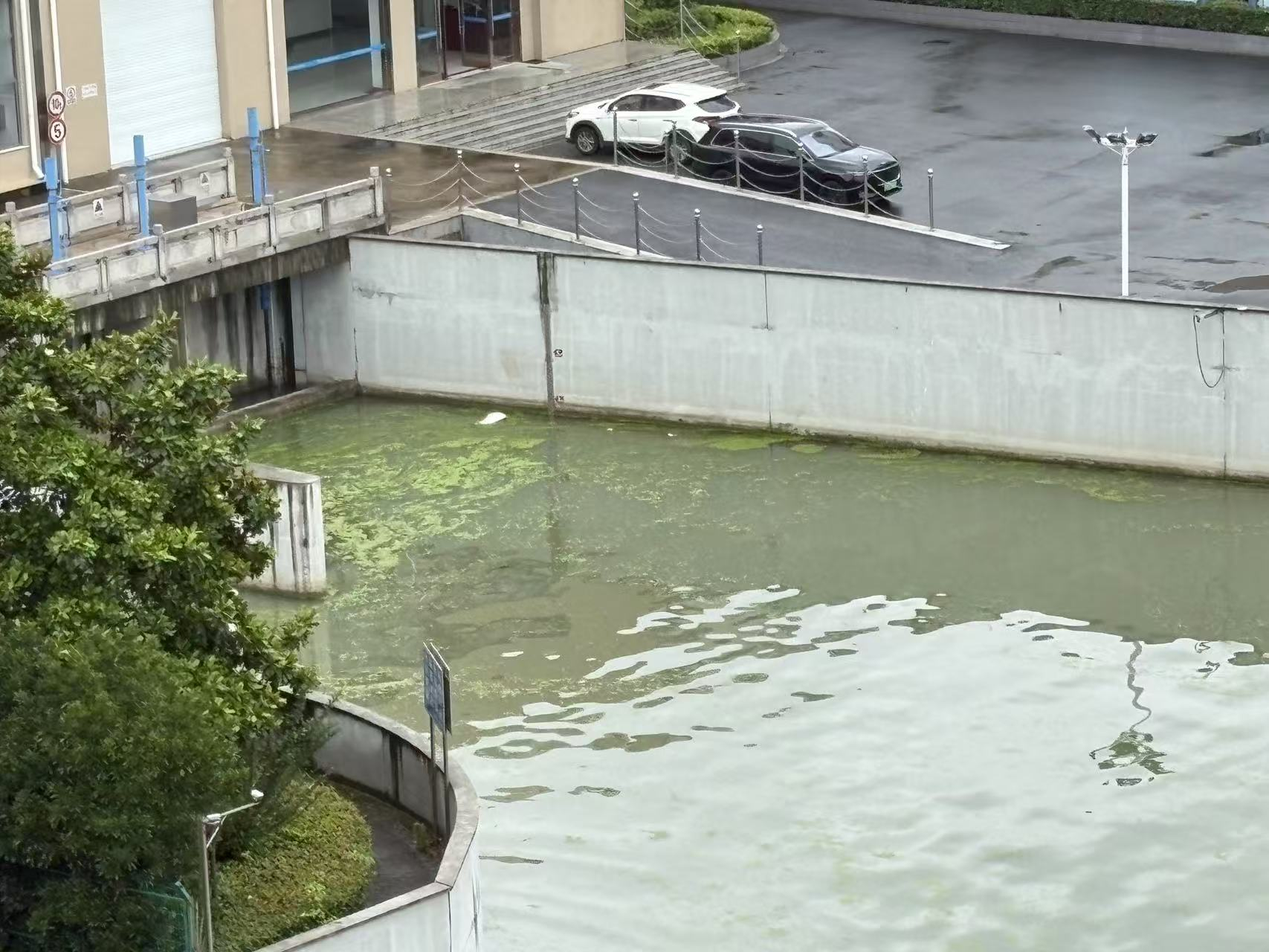Other: (325, 460, 415, 552), (417, 437, 536, 485), (1083, 472, 1146, 501), (713, 433, 774, 448), (787, 439, 824, 456)
Plastic wastes: (477, 411, 507, 425), (666, 433, 674, 437), (608, 428, 613, 431)
